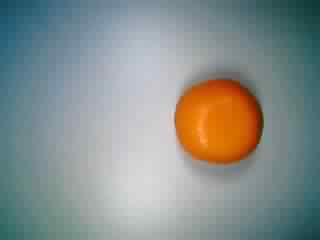orange: (170, 75, 266, 171)
